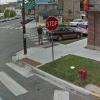Car: (44, 25, 82, 43)
